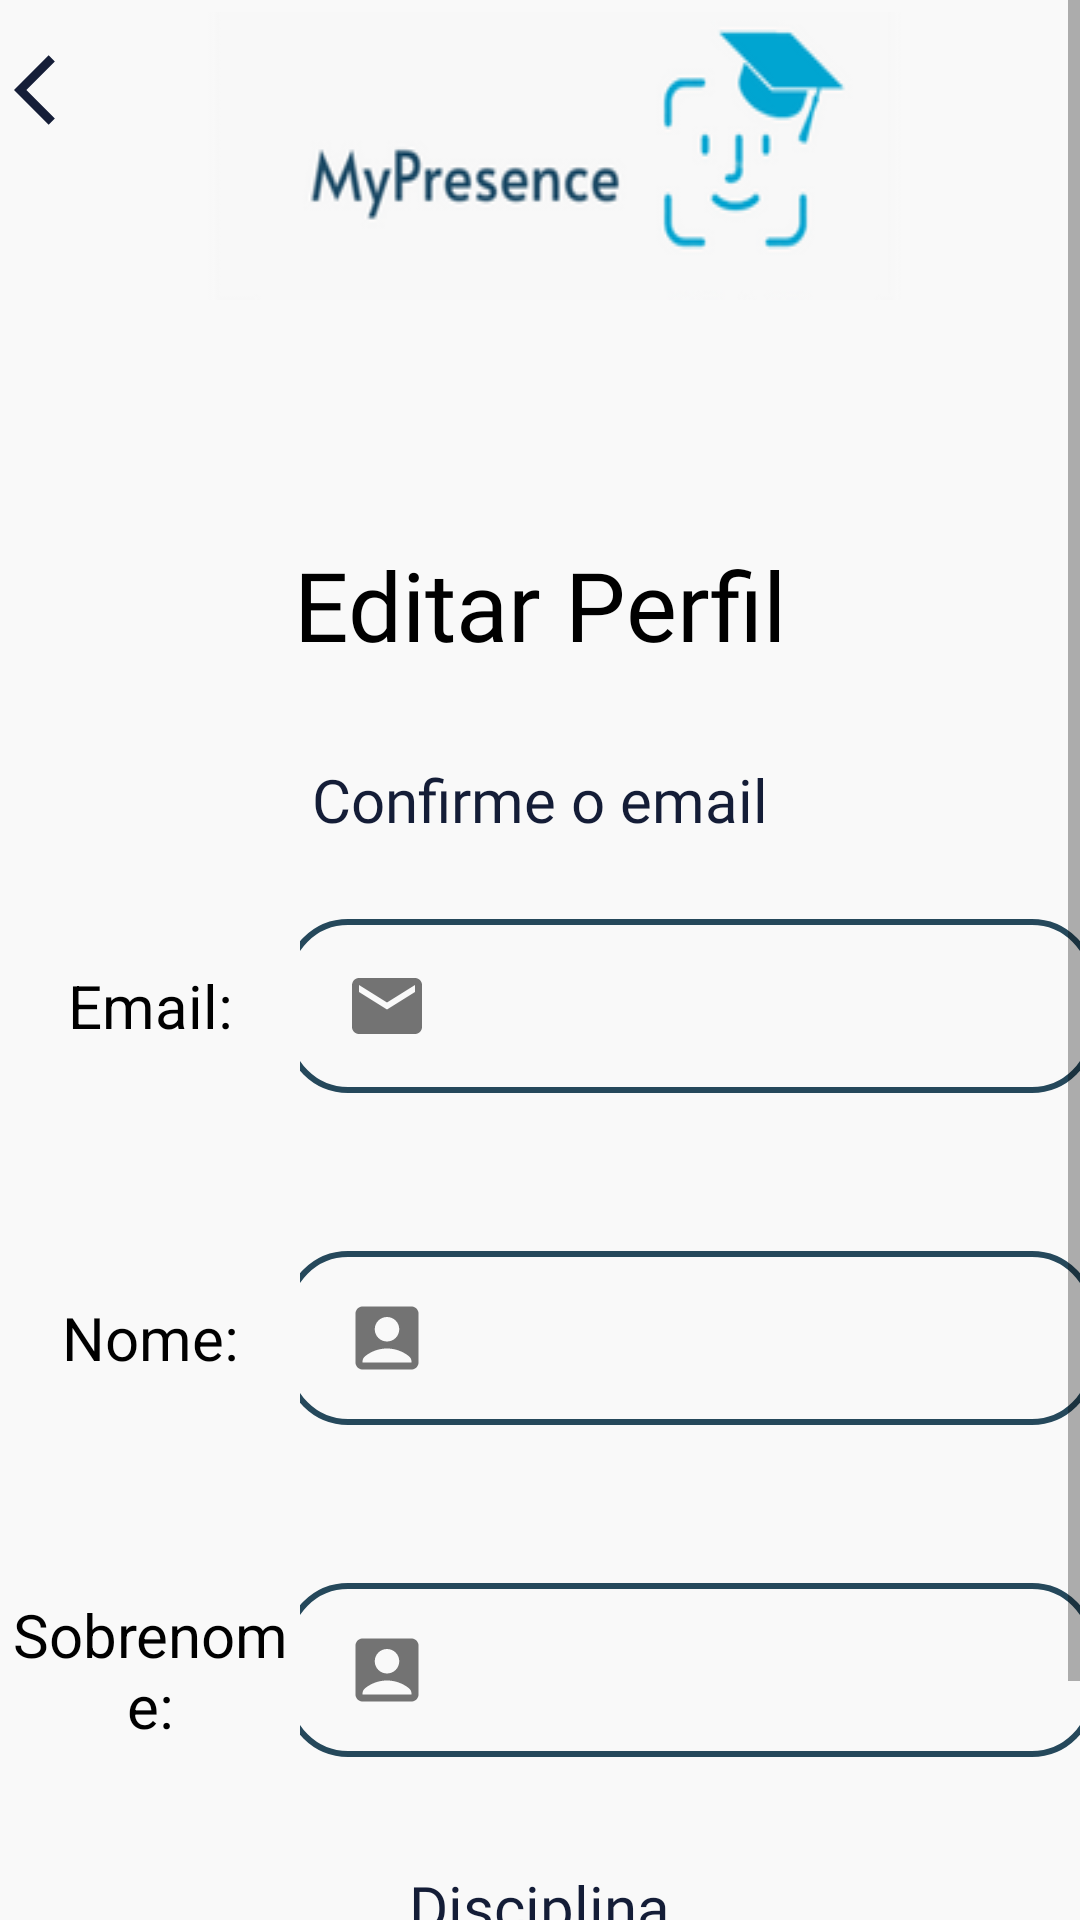

Where to tap for icons on this 1080×1920 app screen, as (x,y):
imgback: (34,90)
